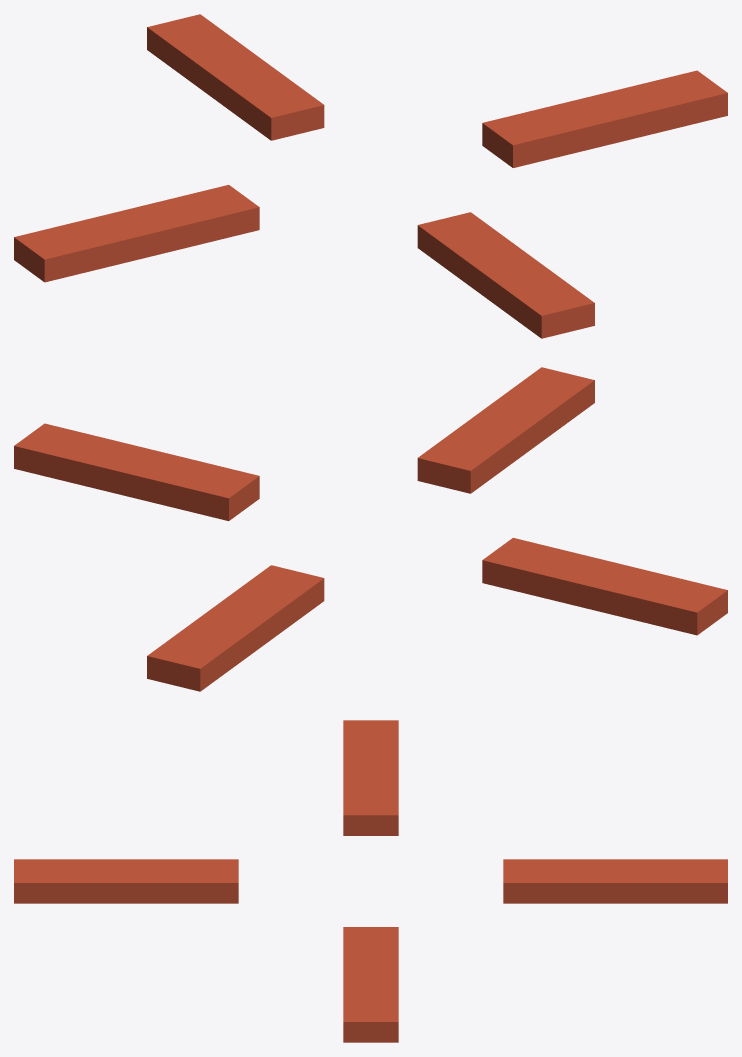
File: Reticle.obj
The picture shows the model from 3 angles, top to bottom: view 1: azimuth 30°, elevation 25°; view 2: azimuth 150°, elevation 25°; view 3: azimuth 270°, elevation 25°; orthographic projection. The views are drawn at different scales.
Bounding box in the file's own units: 5.15 × 0.165 × 5.15.
